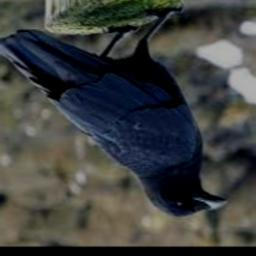Crow: (0, 6, 225, 219)
